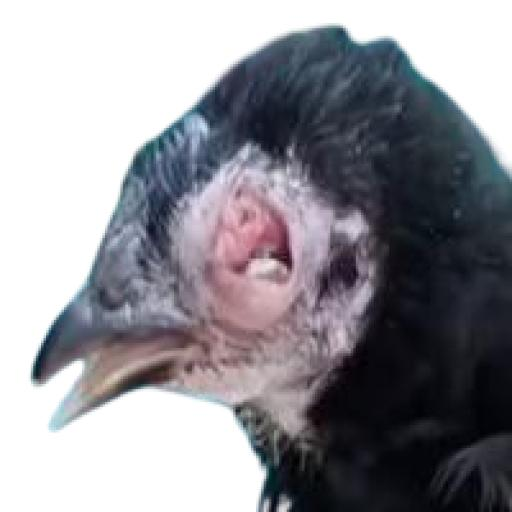disease: (178, 164, 330, 322)
